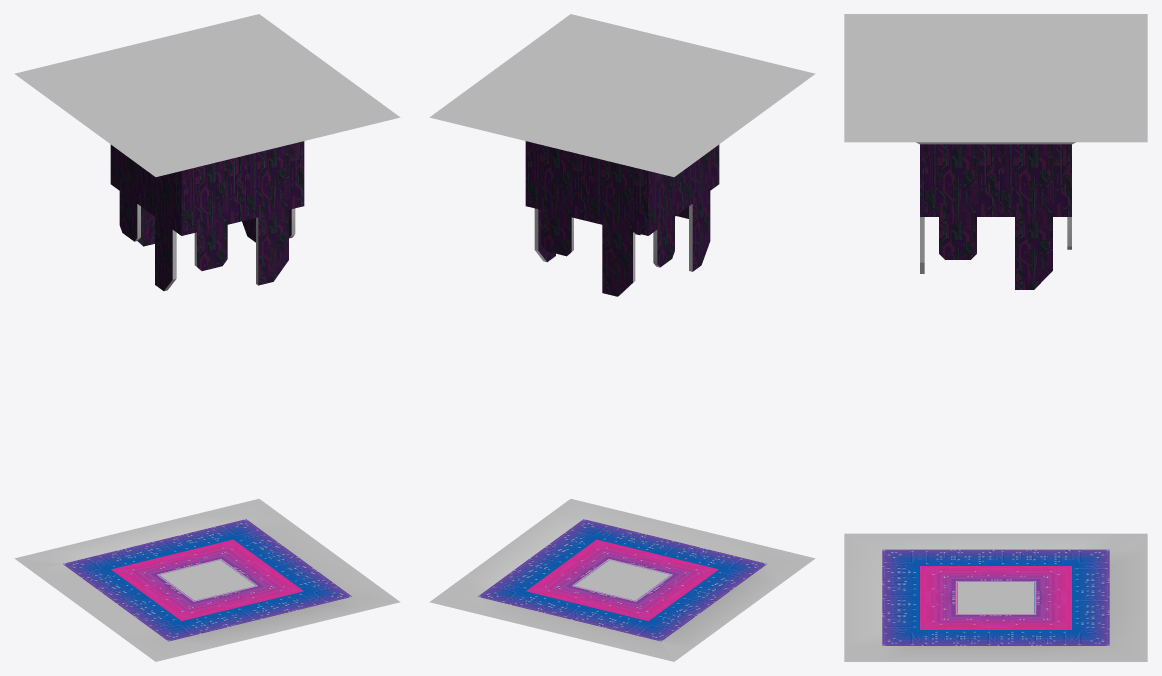
File: cbhang04.fbx
3 renders of one model, left to right at view 1: azimuth 30°, elevation 25°; view 2: azimuth 150°, elevation 25°; view 3: azimuth 270°, elevation 25°, orthographic. The views are drawn at different scales.
Parts seen in each view (by area): view 1: tower5, glass3, terrain, glassa3, glassa, tower1; view 2: tower5, glass3, terrain, glassa1, glassa, tower1; view 3: tower5, glass3, terrain, glassa2, tower1, tower2.
Part boxes in pixels (left/top/right/bottom): tower5: left=14, top=14, right=400, bottom=176; glass3: left=63, top=519, right=351, bottom=641; terrain: left=14, top=499, right=400, bottom=661; glassa3: left=181, top=141, right=304, bottom=285; glassa: left=110, top=144, right=181, bottom=291; tower1: left=159, top=560, right=255, bottom=600; tower5: left=429, top=14, right=815, bottom=176; glass3: left=478, top=519, right=766, bottom=641; terrain: left=429, top=499, right=815, bottom=661; glassa1: left=525, top=141, right=648, bottom=296; glassa: left=648, top=144, right=719, bottom=271; tower1: left=574, top=560, right=670, bottom=600; tower5: left=844, top=14, right=1147, bottom=142; glass3: left=882, top=549, right=1109, bottom=645; terrain: left=844, top=533, right=1147, bottom=661; glassa2: left=920, top=144, right=1071, bottom=289; tower1: left=958, top=582, right=1033, bottom=613; tower2: left=916, top=142, right=1075, bottom=144.
Size of the model in its own units: 64 by 124 by 64.
